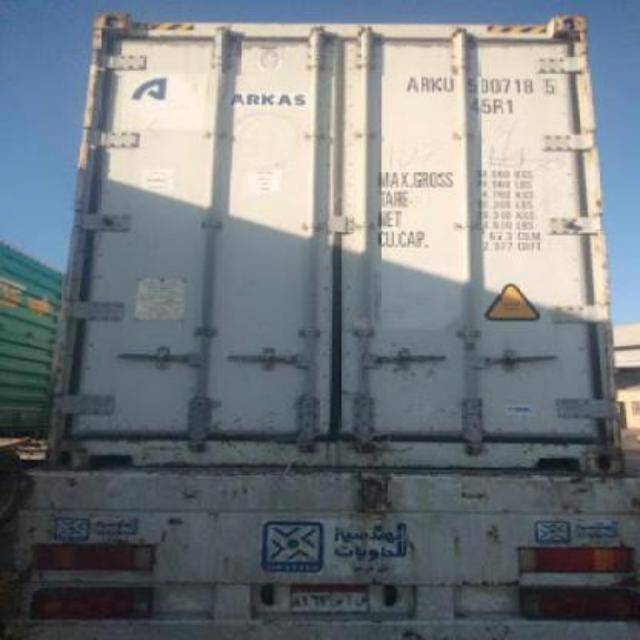0: (486, 74, 504, 96), (478, 74, 488, 95)
1: (512, 74, 524, 96)
5: (542, 74, 558, 96), (464, 73, 478, 94)
7: (498, 74, 512, 95)
8: (522, 74, 536, 96)
A: (400, 68, 420, 98)
K: (431, 74, 444, 98)
R: (428, 67, 432, 96)
U: (440, 72, 458, 92)
